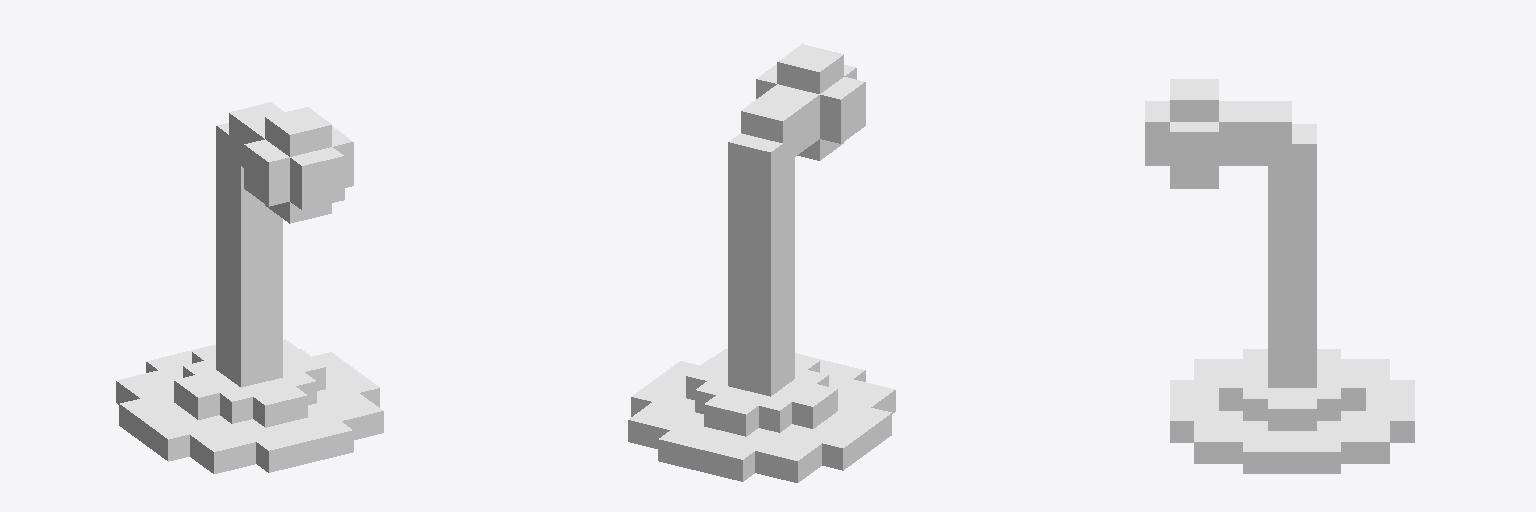
File: Mic.obj
3 renders of one model, left to right at view 1: azimuth 30°, elevation 25°; view 2: azimuth 150°, elevation 25°; view 3: azimuth 270°, elevation 25°, orthographic.
Visible parts, largest first — view 1: object 1; view 2: object 1; view 3: object 1.
Boxes of the visible parts, box(x1,y1,x2,y2) form: object 1: box(116, 102, 383, 473); object 1: box(628, 44, 895, 482); object 1: box(1145, 79, 1414, 473).
Size of the model in its own units: 1 by 1.5 by 1.1.